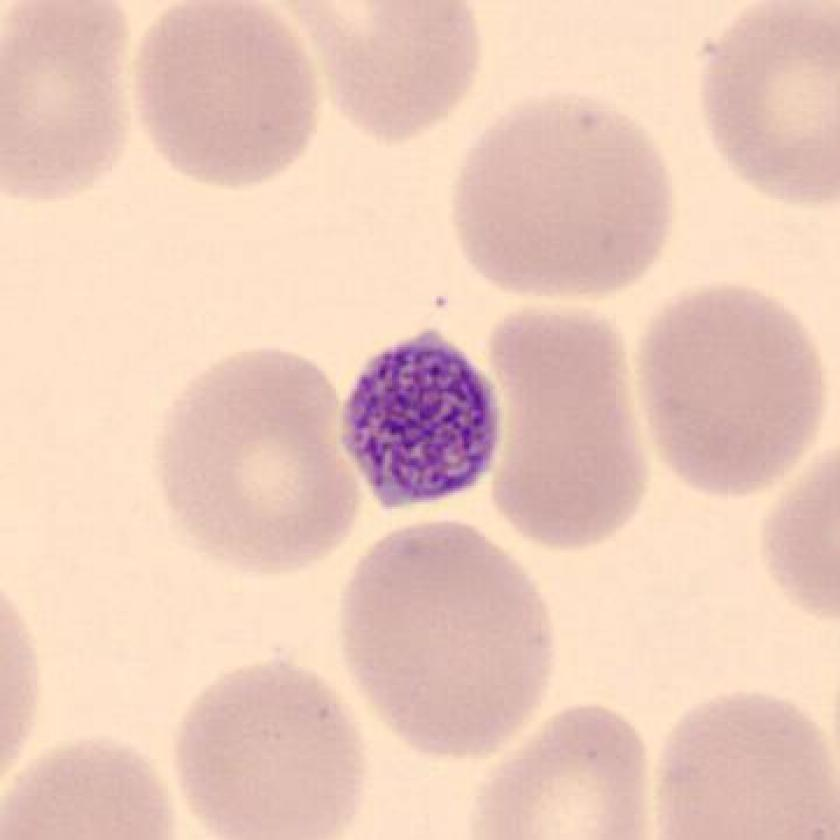platelets: (335, 325, 505, 512)
